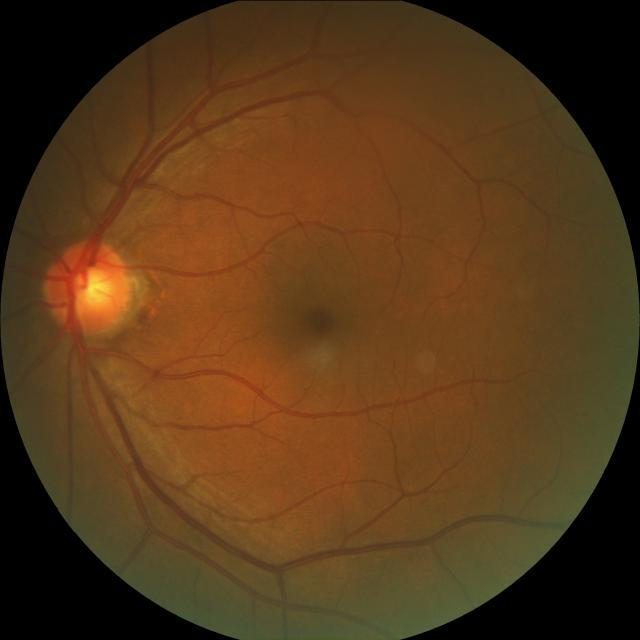OC: (73, 268, 112, 305)
OD: (50, 240, 134, 335)
